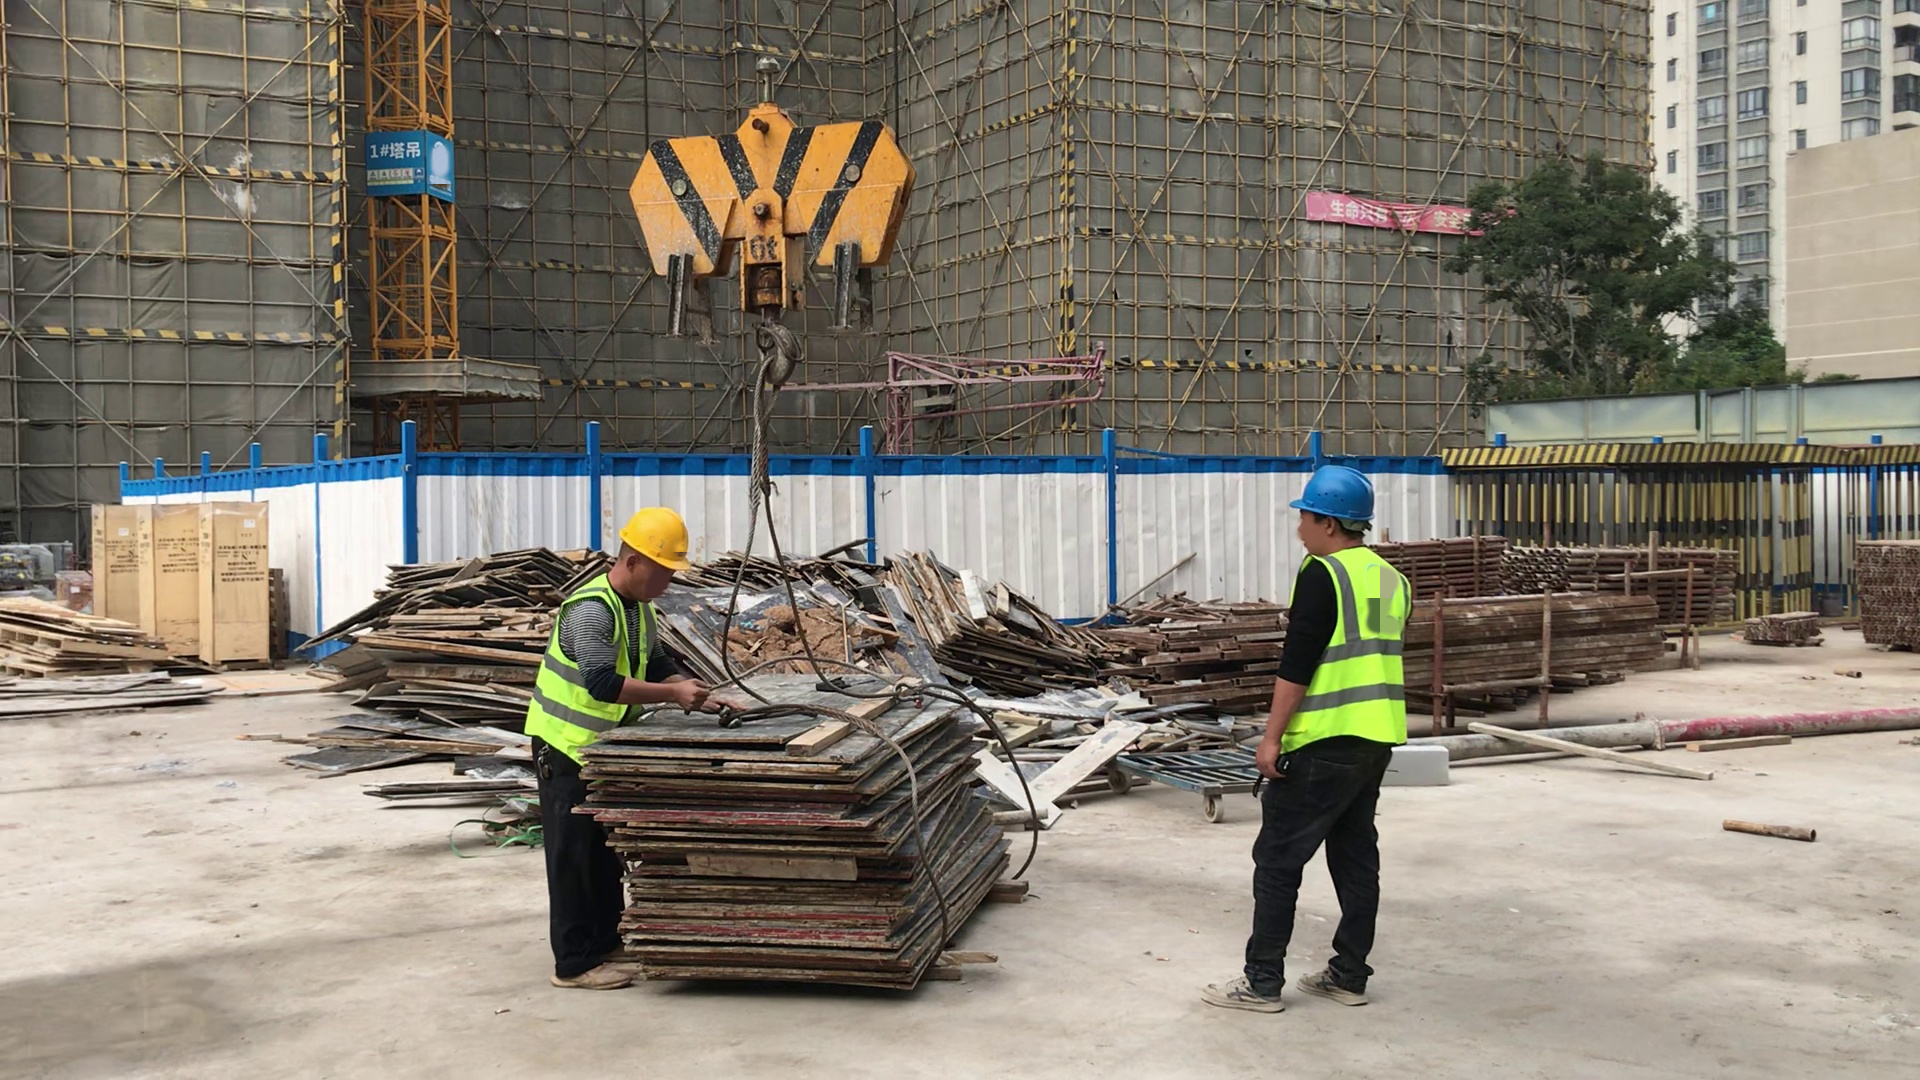board: (574, 667, 1026, 994)
helmet: (1289, 461, 1374, 525), (617, 505, 692, 575)
hook: (628, 102, 915, 383)
person: (1221, 464, 1412, 1020), (530, 504, 723, 993)
scaffold: (1398, 530, 1733, 620), (1852, 539, 1920, 648)
slogan: (1305, 188, 1512, 236), (363, 169, 419, 186)
vest: (1281, 546, 1411, 762), (529, 575, 662, 772)
